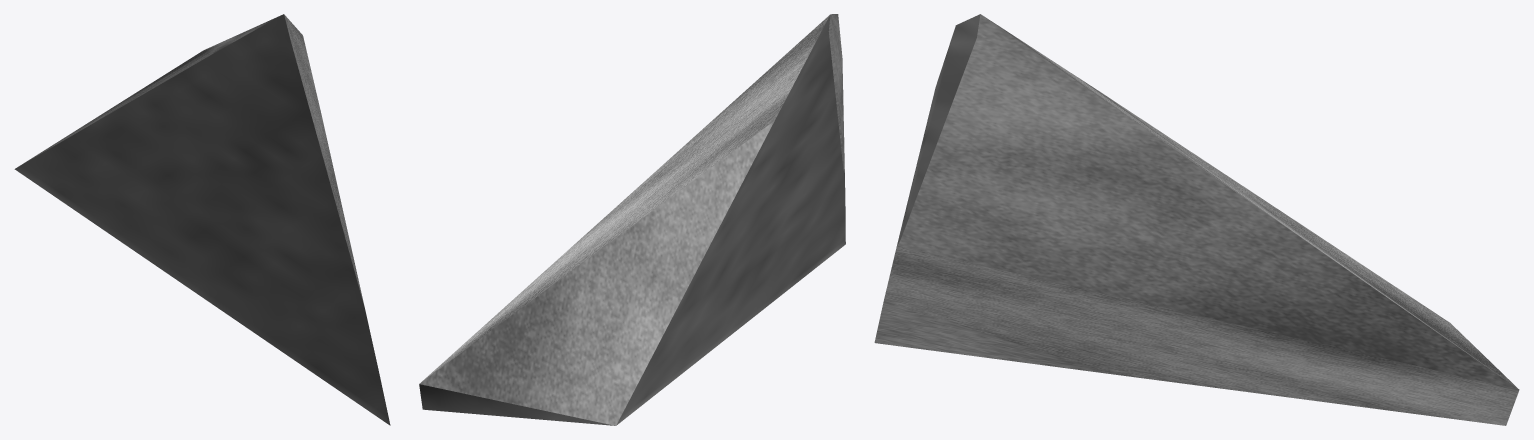
The model's file is leg_2_cell_008.fbx.
The picture shows the model from 3 angles, left to right: view 1: azimuth 30°, elevation 25°; view 2: azimuth 150°, elevation 25°; view 3: azimuth 270°, elevation 25°; orthographic projection. The views are drawn at different scales.
Visible parts, largest first — view 1: leg_2_cell.008; view 2: leg_2_cell.008; view 3: leg_2_cell.008.
Boxes of the visible parts, left/top/right/bottom form: leg_2_cell.008: left=14, top=14, right=390, bottom=425; leg_2_cell.008: left=419, top=14, right=845, bottom=425; leg_2_cell.008: left=874, top=14, right=1519, bottom=425.
Size of the model in its own units: 8.58 by 12.44 by 23.33.
